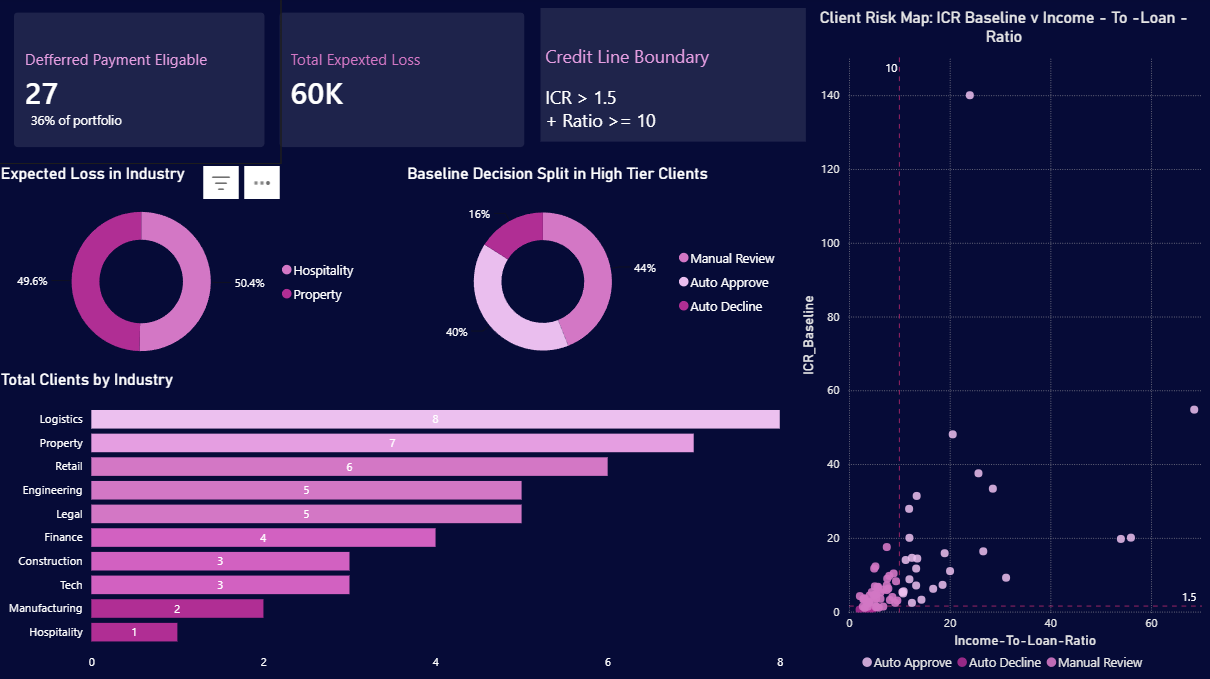

This screenshot's page, from the dashboard's own definition file:
{"tool":"powerbi","page":{"name":"Client Risk & Decisions","canvas":[1280,720],"ordinal":2},"visuals":[{"type":"scatterChart","title":"Client Risk Map: ICR Baseline v Income - To -Loan - Ratio","fields":{"X":["Sum(credit_risk_data.income_to_loan_ratio)"],"Y":["Sum(credit_risk_data.ICR_Baseline)"],"Category":["credit_risk_data.Client_ID"],"Series":["credit_risk_data.Baseline_Decision"]},"box":[841.6,12.6,439,707.4],"z":0},{"type":"donutChart","title":"Expected Loss in Industry","fields":{"Category":["credit_risk_data.Industry"],"Y":["credit_risk_data.Total Expexted Loss"]},"box":[0,176.8,390,227.4],"z":1000},{"type":"cardVisual","title":"Auto Approve KPI","fields":{"Data":["credit_risk_data.Auto Approve Count"]},"box":[1.6,0,298.4,176.8],"z":2000,"group":"g1"},{"type":"cardVisual","title":"Auto Approve KPI","fields":{"Data":["credit_risk_data.Total Expexted Loss"]},"box":[281.1,0,292.1,176.8],"z":3000},{"type":"group","id":"g1","title":"Auto approve","box":[1.6,0,298.4,176.8],"z":4000},{"type":"textbox","title":"36% of portfolio","box":[31.1,112.8,119.7,38.7],"z":5000,"group":"g1"},{"type":"clusteredBarChart","fields":{"Category":["credit_risk_data.Industry"],"Y":["credit_risk_data.Total Clients"]},"box":[0,393.2,833.7,325.3],"z":5000},{"type":"donutChart","title":"Baseline Decision Split in High Tier Clients","fields":{"Category":["credit_risk_data.Baseline_Decision"],"Y":["credit_risk_data.Total Clients"]},"box":[427.9,176.8,405.8,227.4],"z":6000},{"type":"textbox","box":[573.2,12.6,279.5,140.5],"z":6001}]}

Visuals, with their boxes in screenshot pixels (x1, y1, x2, y2), scaled from the page's 1280x720 canvas onto the 1210x679 screenshot:
"Client Risk Map: ICR Baseline v Income - To -Loan - Ratio" scatterChart: 796/12/1209/678
"Expected Loss in Industry" donutChart: 0/167/369/381
"Auto Approve KPI" cardVisual: 2/0/284/167
"Auto Approve KPI" cardVisual: 266/0/542/167
"Auto approve" group: 2/0/284/167
"36% of portfolio" textbox: 29/106/143/143
clusteredBarChart - credit_risk_data.Industry x credit_risk_data.Total Clients: 0/371/788/678
"Baseline Decision Split in High Tier Clients" donutChart: 404/167/788/381
textbox: 542/12/806/144
